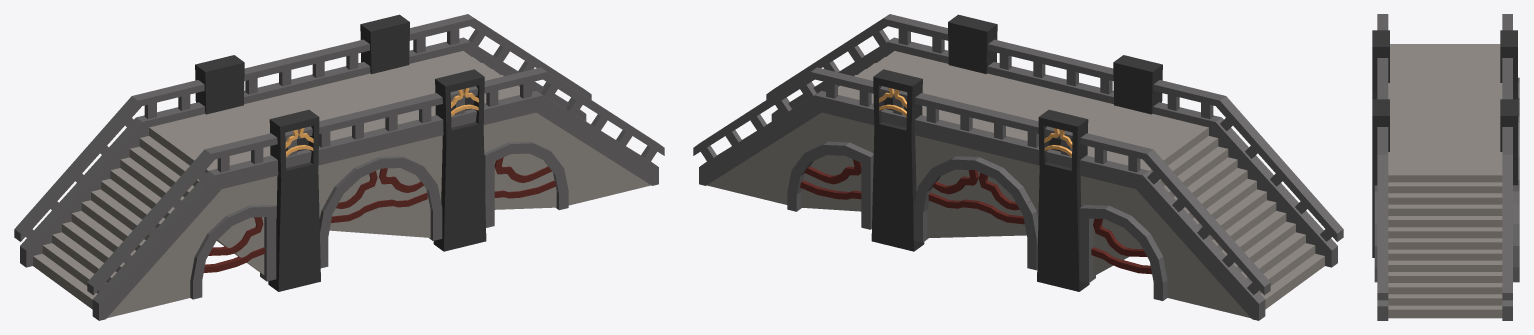
File: Bridge_7.fbx
3 renders of one model, left to right at view 1: azimuth 30°, elevation 25°; view 2: azimuth 150°, elevation 25°; view 3: azimuth 270°, elevation 25°, orthographic. The views are drawn at different scales.
Visible parts, largest first — view 1: Bridge_7; view 2: Bridge_7; view 3: Bridge_7.
Part boxes in pixels (left/top/right/bottom): Bridge_7: left=14, top=14, right=664, bottom=320; Bridge_7: left=693, top=14, right=1343, bottom=320; Bridge_7: left=1372, top=14, right=1519, bottom=320.
Size of the model in its own units: 640 by 177 by 167.
